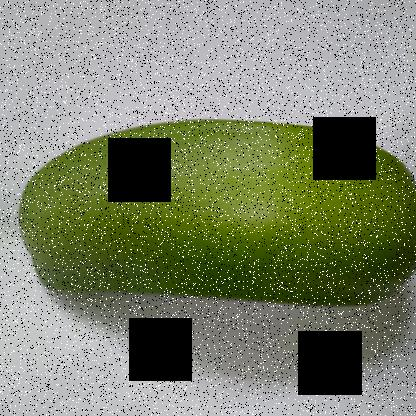freshunripe: (15, 110, 416, 312)
